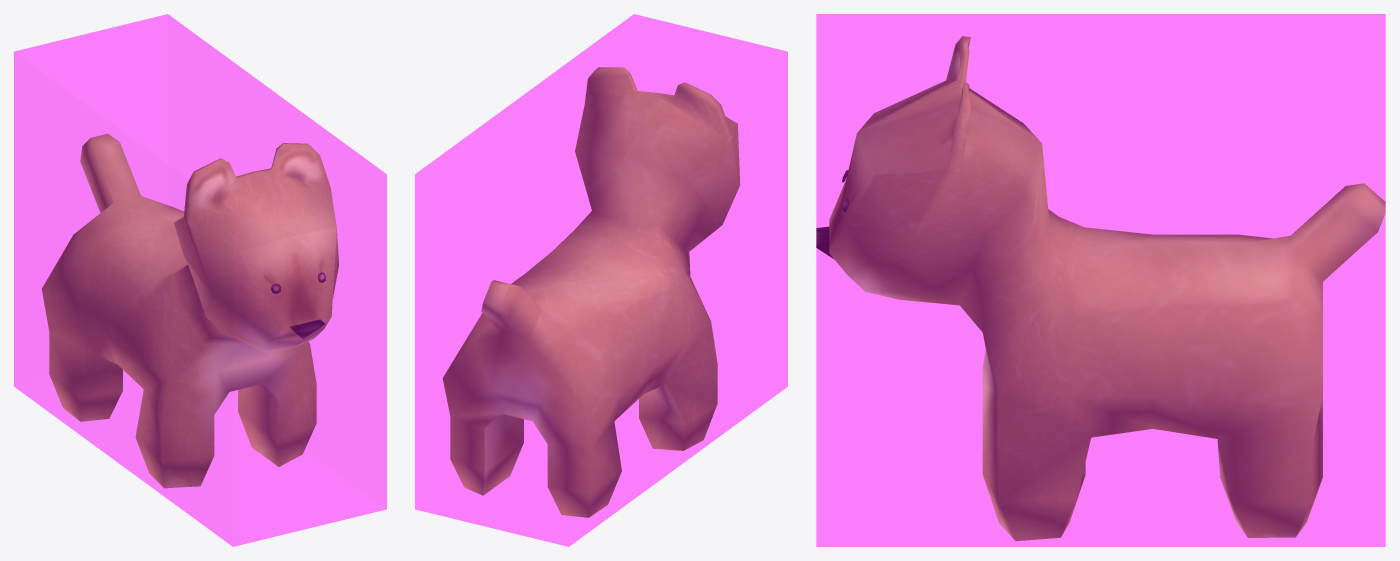
File: doll_dog.fbx
The picture shows the model from 3 angles, left to right: view 1: azimuth 30°, elevation 25°; view 2: azimuth 150°, elevation 25°; view 3: azimuth 270°, elevation 25°; orthographic projection. The views are drawn at different scales.
Visible parts, largest first — view 1: doll_dog_boundingBox, doll_dog; view 2: doll_dog_boundingBox, doll_dog; view 3: doll_dog_boundingBox, doll_dog.
Part boxes in pixels (left/top/right/bottom): doll_dog_boundingBox: left=14, top=14, right=386, bottom=546; doll_dog: left=41, top=133, right=339, bottom=488; doll_dog_boundingBox: left=415, top=14, right=787, bottom=546; doll_dog: left=442, top=67, right=740, bottom=517; doll_dog_boundingBox: left=816, top=14, right=1385, bottom=546; doll_dog: left=816, top=36, right=1385, bottom=541.
Size of the model in its own units: 0.0849 by 0.1767 by 0.2092.
2 materials, 1 textured.
